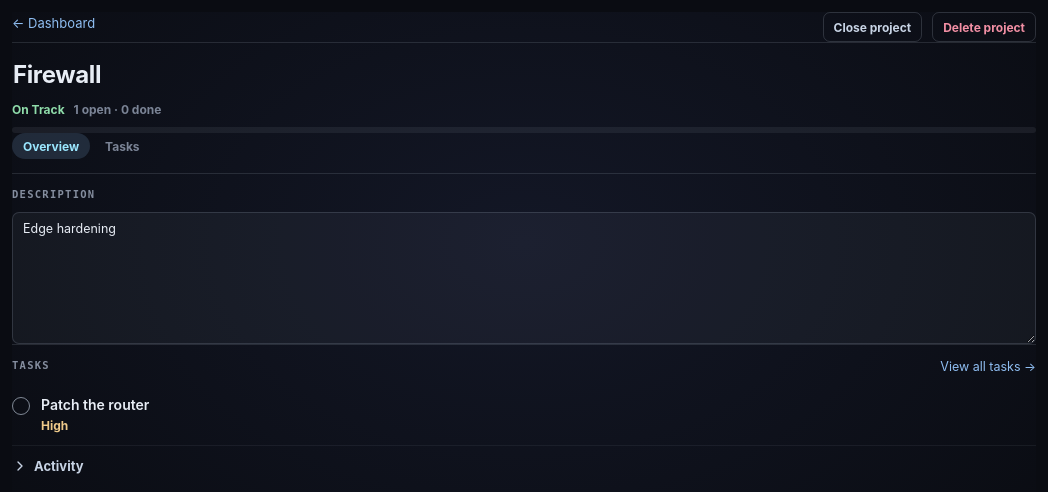
ProjectDetailPage › does not let a stale PATCH response revert a newer inline edit
# PATCH A: rename, response delayed.
Replace the text in the field named "Project name" with "Edge Firewall". click: [524, 75]
box: x1=12 y1=57 x2=1036 y2=93
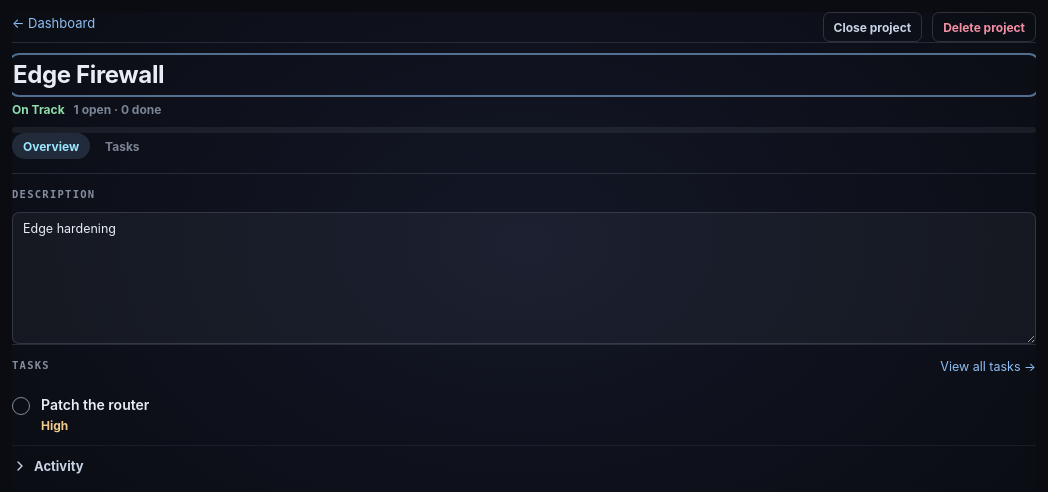
Press Tab
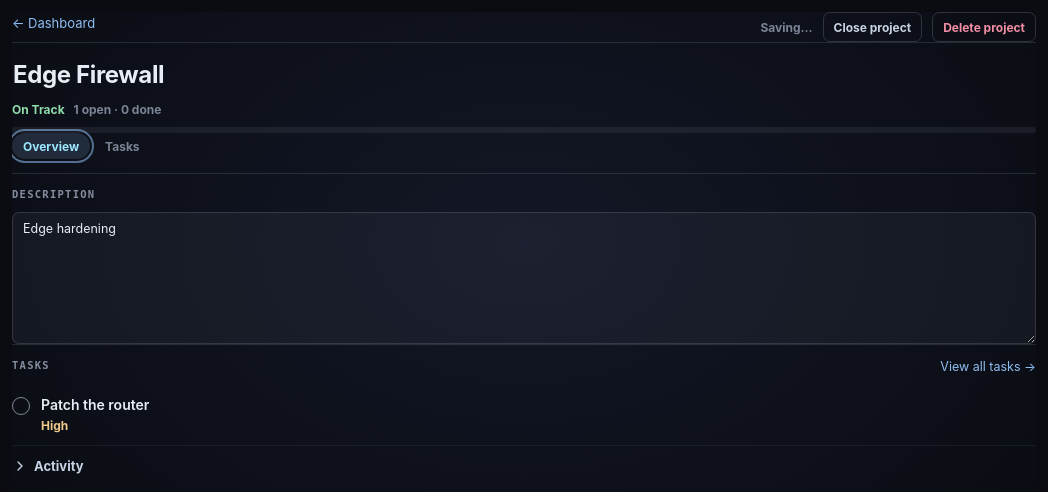
# PATCH B: new description, response delivered first.
Replace the text in the text box named "Project description" with "Perimeter hardening". click: [524, 278]
box: x1=12 y1=212 x2=1036 y2=344
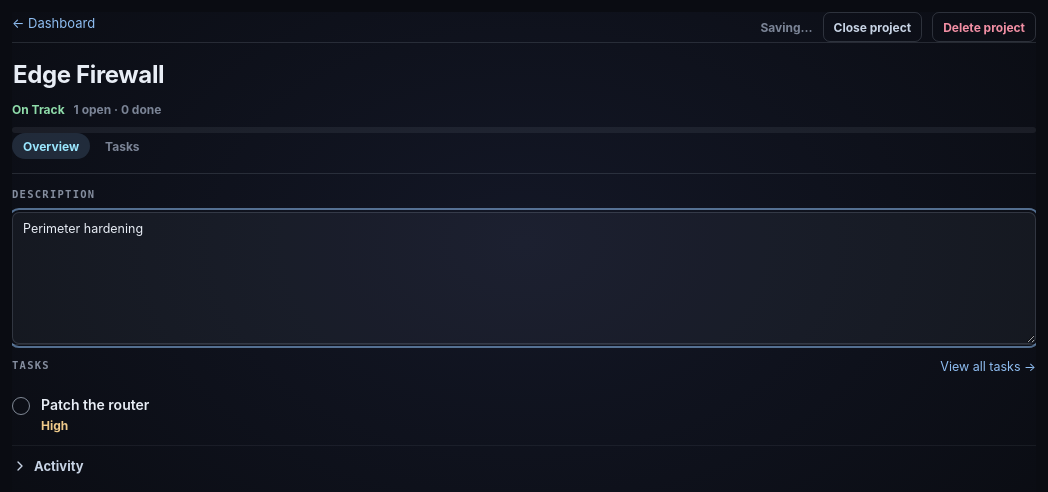
Press Tab
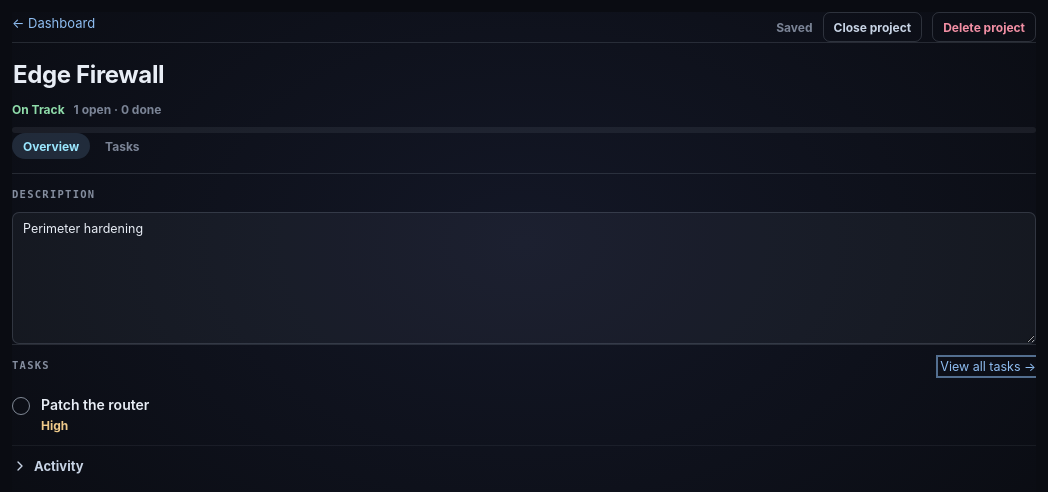
Expected: the text "Saved" is shown, x1=776 y1=20 x2=813 y2=34
